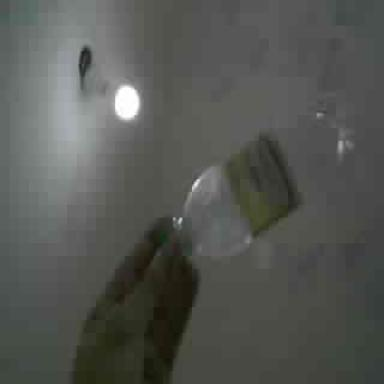bottle: (175, 117, 349, 260)
